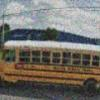buses: (0, 40, 100, 96)
